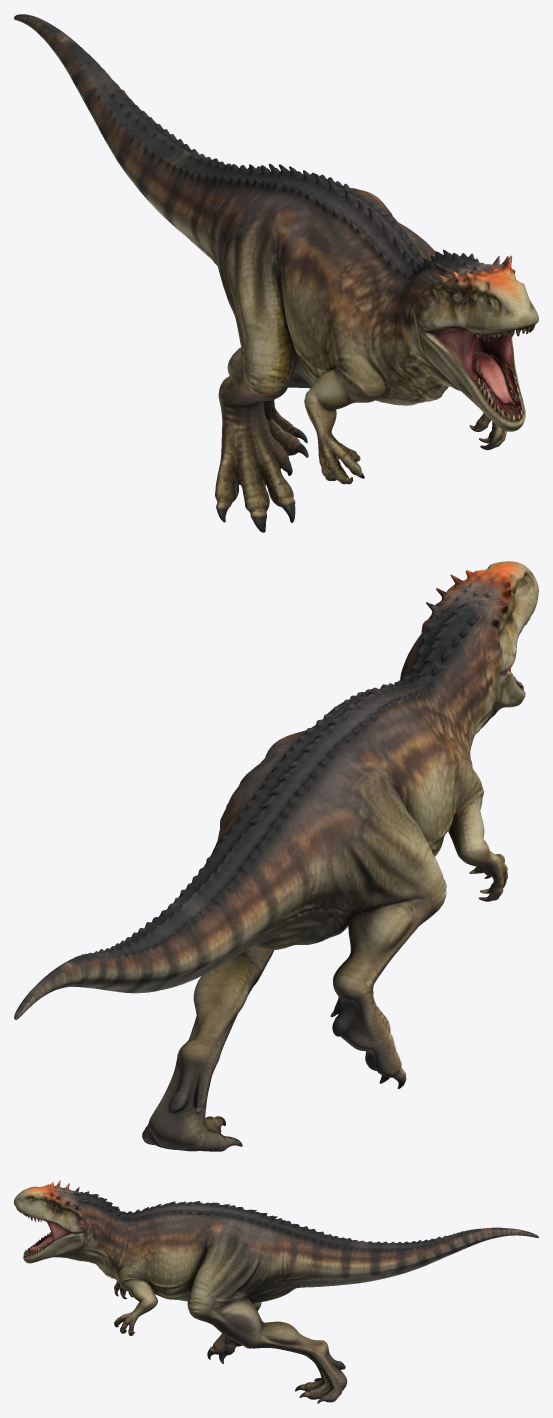
Rendered from Meshy_AI_Roaring_Dinosaur_0126033222_texture.glb.
3 views of the same model, one above another, from view 1: azimuth 30°, elevation 25°; view 2: azimuth 150°, elevation 25°; view 3: azimuth 270°, elevation 25° (orthographic). The views are drawn at different scales.
Bounding box in the file's own units: 0.4199 × 0.7876 × 1.9.
Materials: 1 (1 with a texture image).
